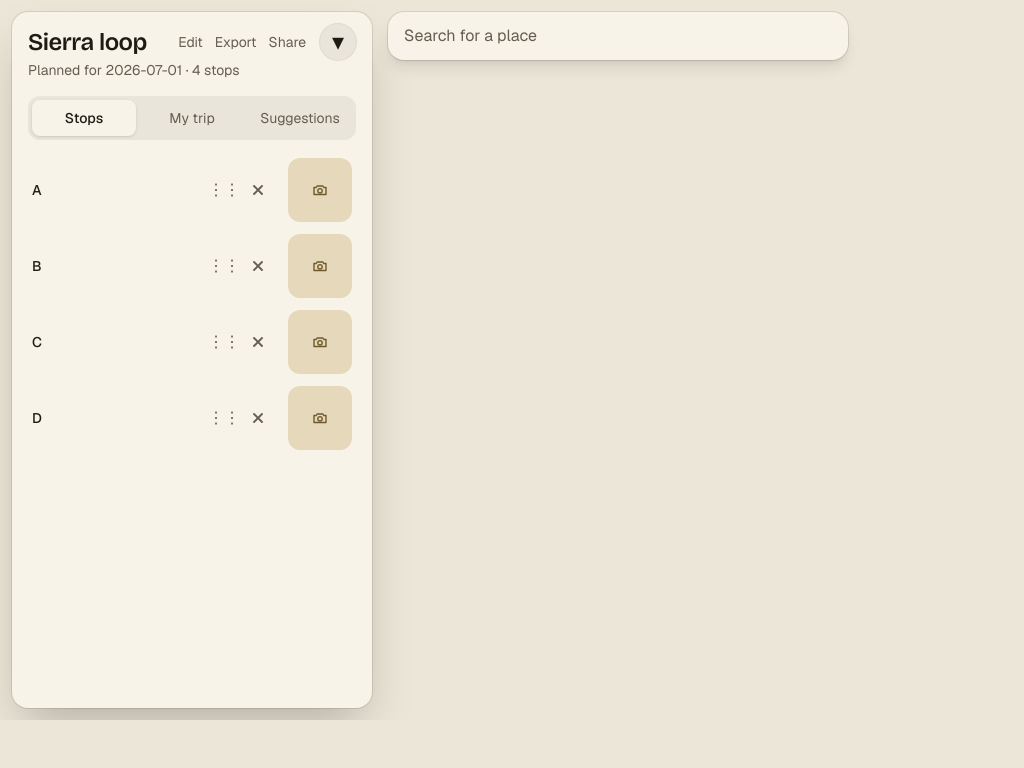
it: TripEditor: re-optimize when a stop is ticked › runs Optimize once, quietly, about 600 ms after the tick, planning from the visited stop
This screenshot has width=1024, height=768.
Click the tab "My trip".
click(192, 118)  # box [140,100,244,136]
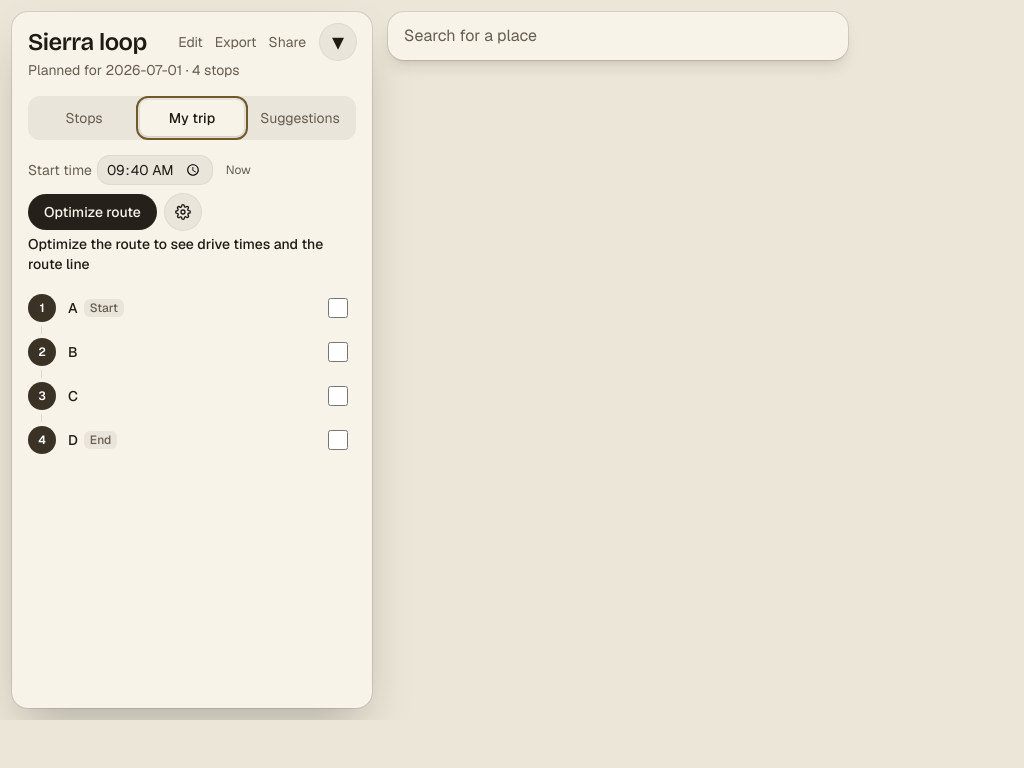
Click the checkbox named "Visited: A".
click(338, 308)  # box [328,298,348,318]
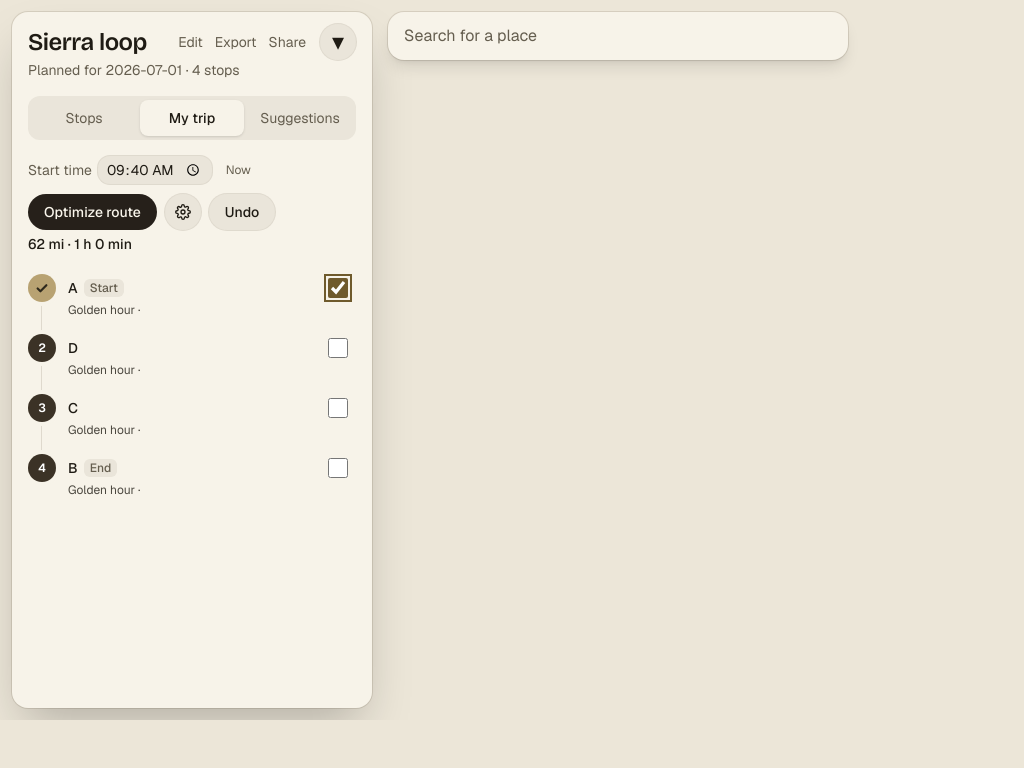
Now the checkbox named "Visited: A" is checked, box [328,278,348,298]
Now the button "Undo" is shown, box [209,194,275,230]
